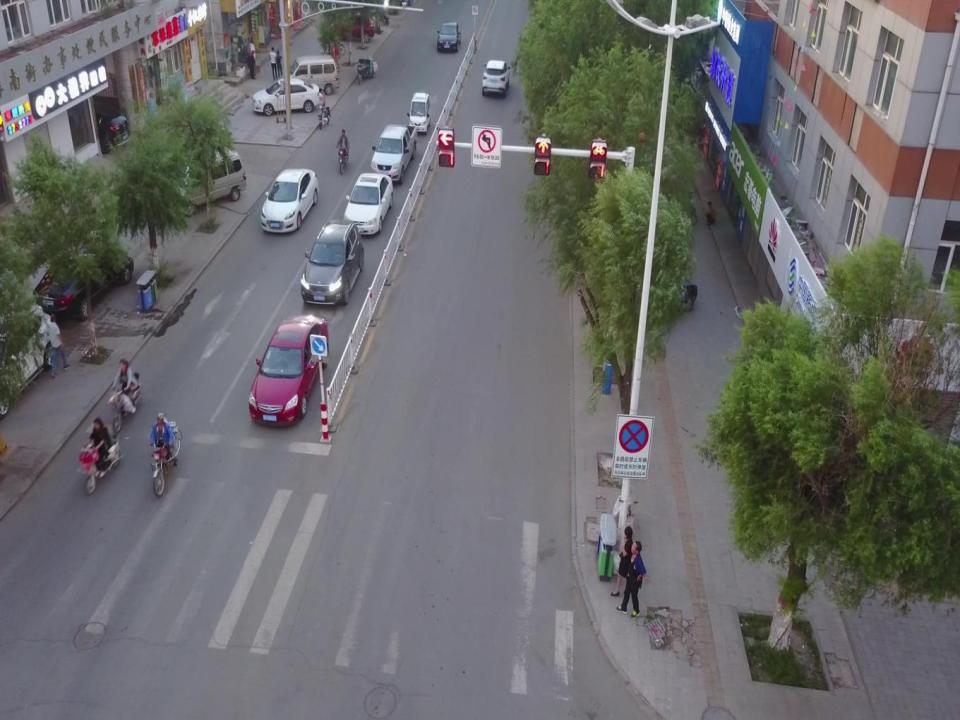car: (249, 314, 328, 426), (33, 248, 136, 324), (2, 302, 55, 418), (300, 219, 364, 307), (260, 166, 320, 234), (622, 270, 704, 315), (344, 173, 394, 236), (73, 103, 132, 154), (251, 78, 323, 113), (334, 13, 374, 42), (483, 60, 510, 97), (438, 22, 460, 48)
truck: (372, 126, 416, 181)
van: (177, 150, 247, 202), (280, 56, 340, 92)
